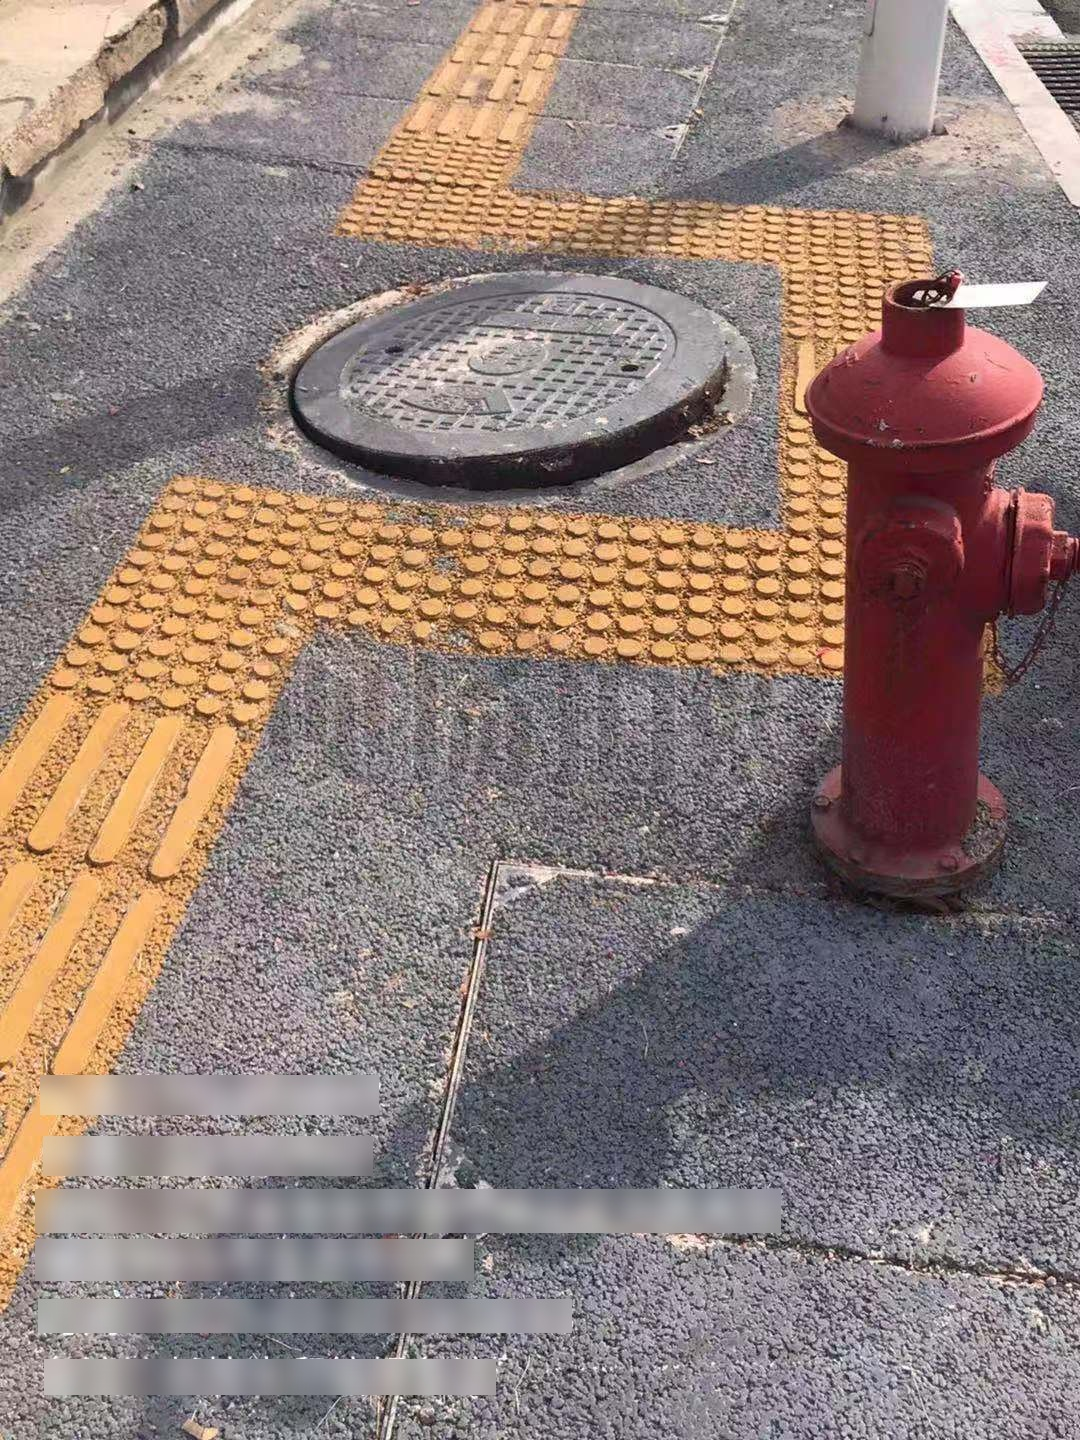well: (279, 274, 729, 501)
